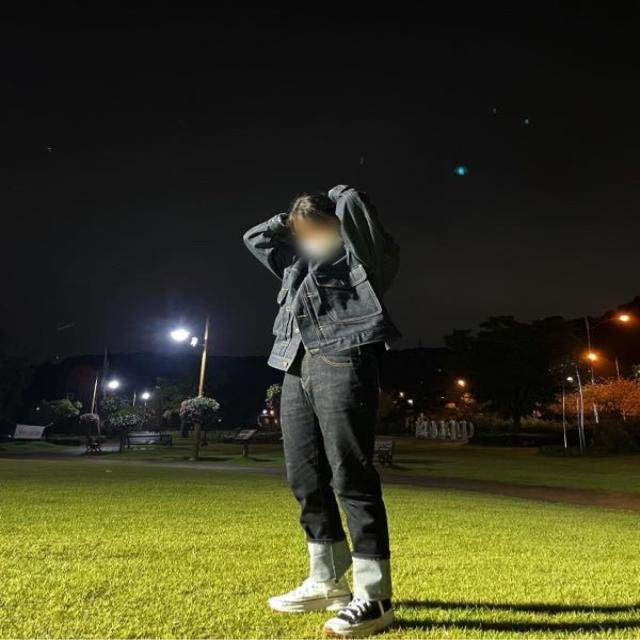denimpants: (279, 343, 390, 602)
jacket: (242, 183, 384, 374)
